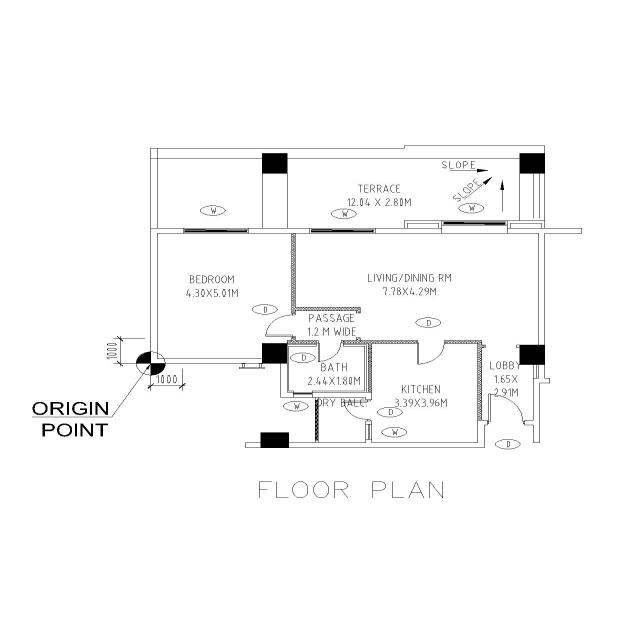Column: (518, 150, 548, 177), (260, 342, 291, 366), (517, 343, 547, 366), (261, 152, 289, 176), (258, 430, 291, 450)
Door: (486, 418, 526, 427), (364, 398, 374, 422), (315, 339, 343, 346), (290, 312, 297, 338), (416, 339, 446, 345)
Opening: (354, 311, 362, 339)
Window: (181, 226, 252, 236), (441, 218, 508, 228), (306, 226, 376, 234), (364, 423, 374, 441), (292, 390, 314, 398)
